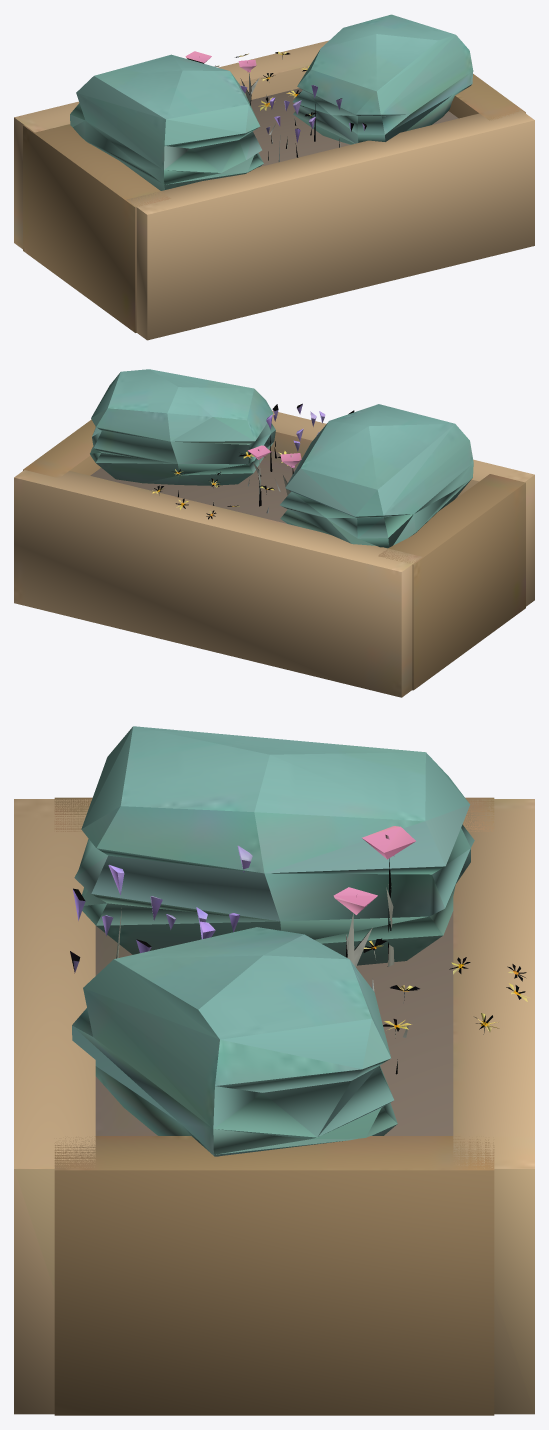
File: plaza_planter_filled_low.glb
3 renders of one model, top to bottom at view 1: azimuth 30°, elevation 25°; view 2: azimuth 150°, elevation 25°; view 3: azimuth 270°, elevation 25°, orthographic. The views are drawn at different scales.
Visible parts, largest first — view 1: plaza_planter_filled; view 2: plaza_planter_filled; view 3: plaza_planter_filled.
Part boxes in pixels (<box>): plaza_planter_filled: <box>14,14,534,340</box>; plaza_planter_filled: <box>14,369,534,697</box>; plaza_planter_filled: <box>14,726,534,1415</box>.
Bounding box in the file's own units: 1.76 × 0.85 × 1.04.
Materials: 1 (1 with a texture image).
